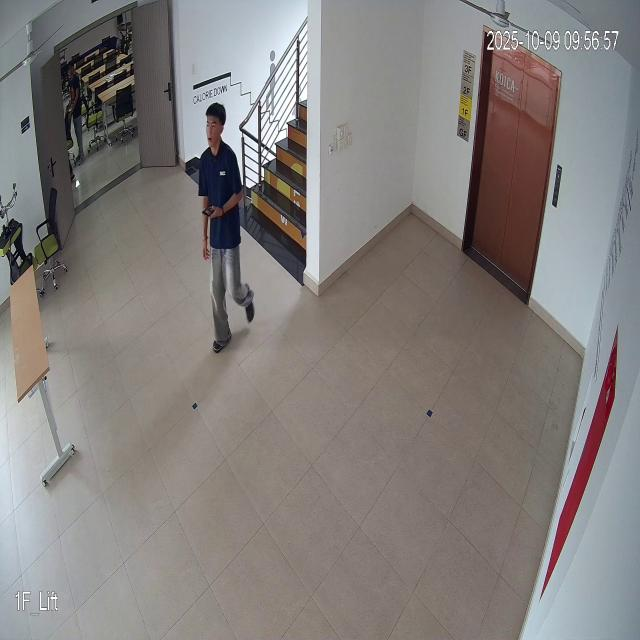face: (201, 98, 226, 159)
